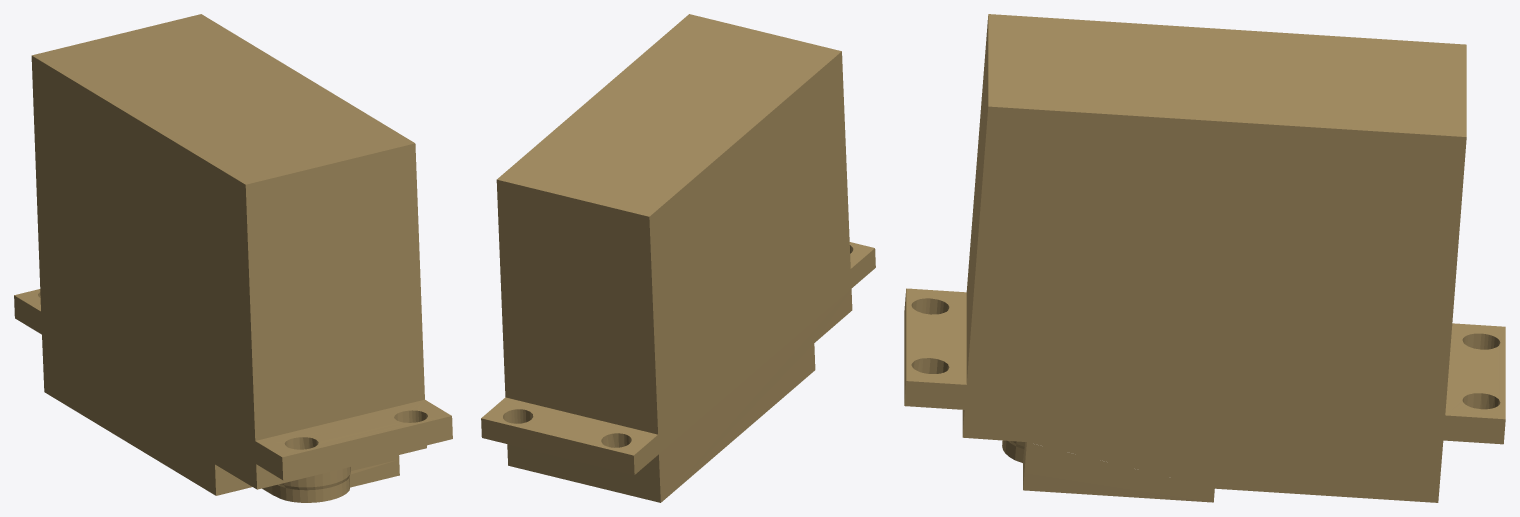
File: Texture.218.dae.balanced.glb
3 views of the same model, side by side, from view 1: azimuth 30°, elevation 25°; view 2: azimuth 150°, elevation 25°; view 3: azimuth 270°, elevation 25° (orthographic). The views are drawn at different scales.
Bounding box in the file's own units: 0.2829 × 0.5644 × 0.7761.
